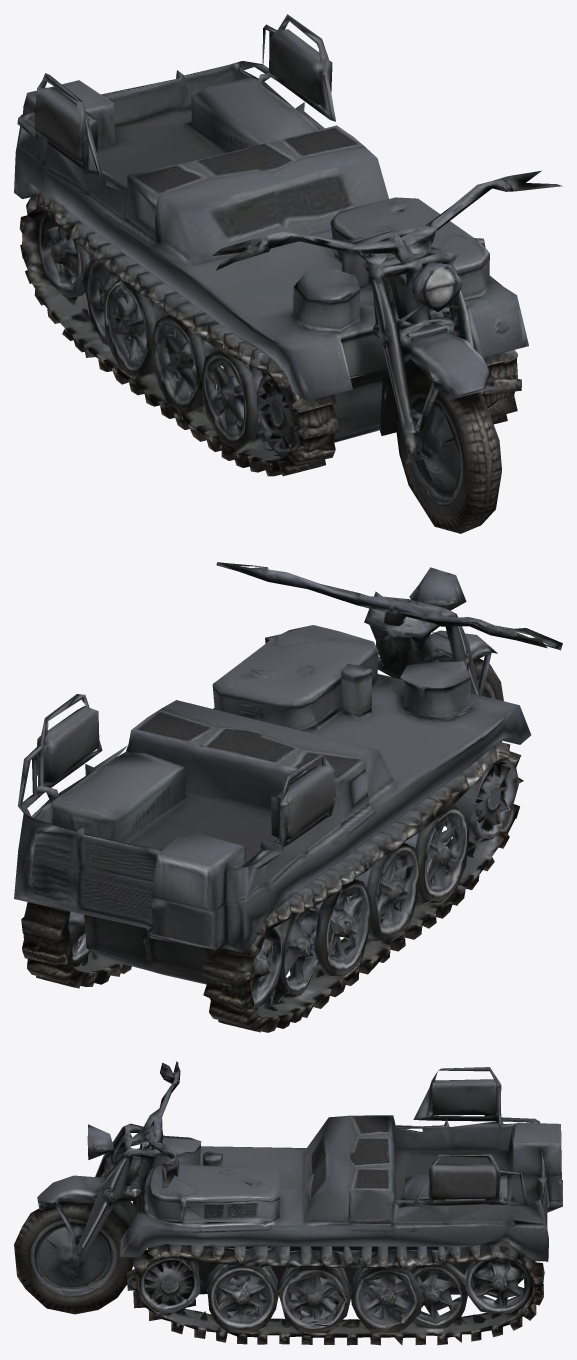
Rendered from prop_kettenkrad.glb.
3 renders of one model, top to bottom at view 1: azimuth 30°, elevation 25°; view 2: azimuth 150°, elevation 25°; view 3: azimuth 270°, elevation 25°, orthographic. The views are drawn at different scales.
Parts seen in each view (by area): view 1: tripo_node_e0681bde-5e10-48a6-bd38-a323095f84f1; view 2: tripo_node_e0681bde-5e10-48a6-bd38-a323095f84f1; view 3: tripo_node_e0681bde-5e10-48a6-bd38-a323095f84f1.
Part boxes in pixels (left/top/right/bottom): tripo_node_e0681bde-5e10-48a6-bd38-a323095f84f1: left=14, top=14, right=562, bottom=533; tripo_node_e0681bde-5e10-48a6-bd38-a323095f84f1: left=14, top=562, right=562, bottom=1032; tripo_node_e0681bde-5e10-48a6-bd38-a323095f84f1: left=14, top=1061, right=562, bottom=1345.
Bounding box in the file's own units: 0.5214 × 0.3923 × 0.9787.
Materials: 1 (1 with a texture image).
